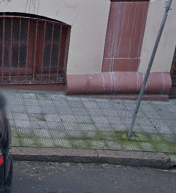vag75: (15, 128, 176, 193)
